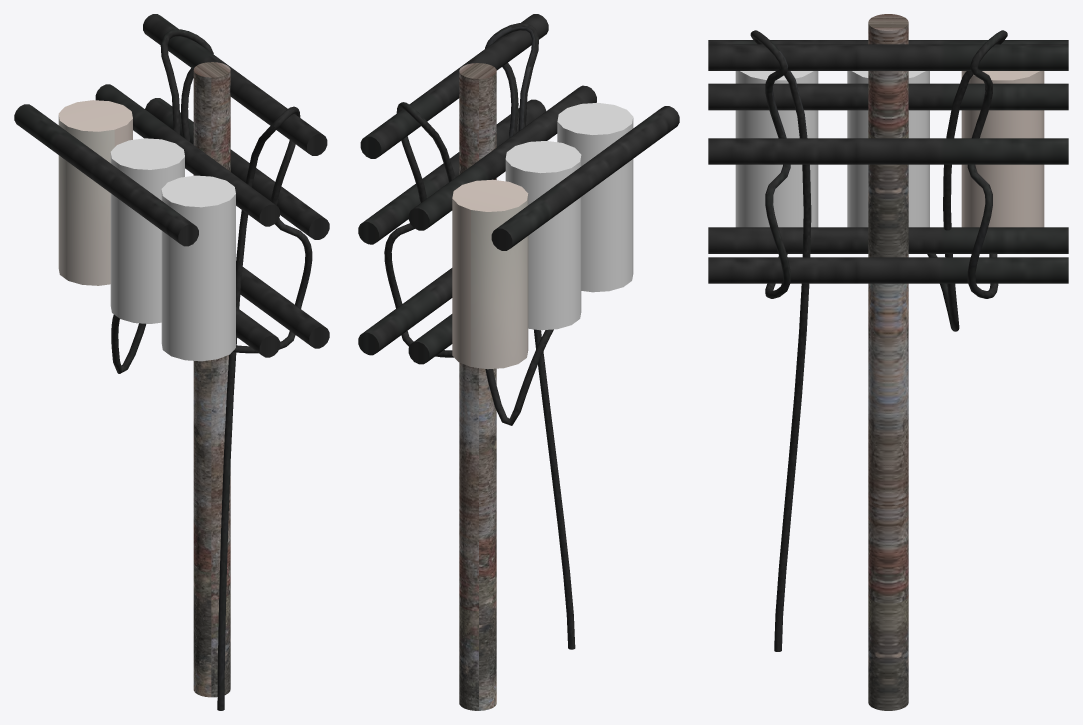
Rendered from Electric Pole.fbx.
3 views of the same model, side by side, from view 1: azimuth 30°, elevation 25°; view 2: azimuth 150°, elevation 25°; view 3: azimuth 270°, elevation 25° (orthographic). The views are drawn at different scales.
Parts seen in each view (by area): view 1: Cylinder.016, Cylinder.025, Cylinder.019, Cylinder.021, BézierCurve.004, Cylinder.018, Cylinder.017, Cylinder.024, Cylinder.023, Cylinder.022, Cylinder.020; view 2: Cylinder.016, Cylinder.019, Cylinder.021, Cylinder.025, BézierCurve.004, Cylinder.018, Cylinder.017, Cylinder.024, Cylinder.023, Cylinder.022, Cylinder.020; view 3: Cylinder.016, BézierCurve.004, Cylinder.023, Cylinder.022, Cylinder.017, Cylinder.024, Cylinder.020, Cylinder.019, Cylinder.025, Cylinder.021, Cylinder.018.
Part boxes in pixels (x1,y1,x2,y2): Cylinder.016: (193,62,230,697); Cylinder.025: (161,175,235,361); Cylinder.019: (58,100,132,285); Cylinder.021: (110,138,184,323); BézierCurve.004: (111,29,312,710); Cylinder.018: (14,104,198,246); Cylinder.017: (143,14,327,155); Cylinder.024: (95,84,279,226); Cylinder.023: (145,98,329,239); Cylinder.022: (240,267,329,348); Cylinder.020: (236,307,280,357); Cylinder.016: (459,63,496,710); Cylinder.019: (452,179,528,369); Cylinder.021: (505,141,581,330); Cylinder.025: (557,103,633,292); BézierCurve.004: (384,23,575,649); Cylinder.018: (491,106,679,250); Cylinder.017: (360,14,548,158); Cylinder.024: (408,85,596,230); Cylinder.023: (358,99,546,244); Cylinder.022: (358,268,452,355); Cylinder.020: (408,314,452,364); Cylinder.016: (868,14,908,710); BézierCurve.004: (750,30,1007,651); Cylinder.023: (708,138,1068,164); Cylinder.022: (708,257,1068,283); Cylinder.017: (708,44,1068,70); Cylinder.024: (708,83,1068,110); Cylinder.020: (708,227,1068,253); Cylinder.019: (961,71,1044,227); Cylinder.025: (735,71,818,227); Cylinder.021: (847,71,929,227); Cylinder.018: (708,40,1068,44).
Size of the model in its own units: 156 by 566 by 271.
